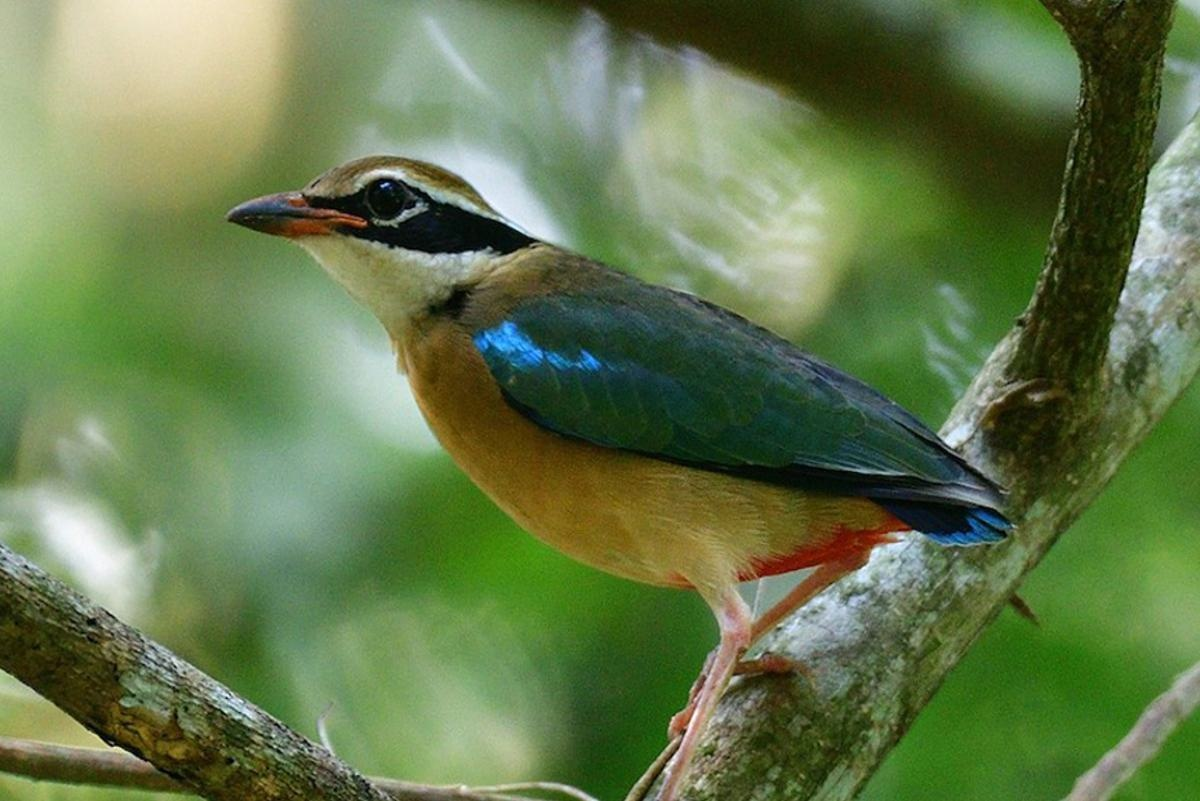pitta: (235, 114, 1060, 677)
